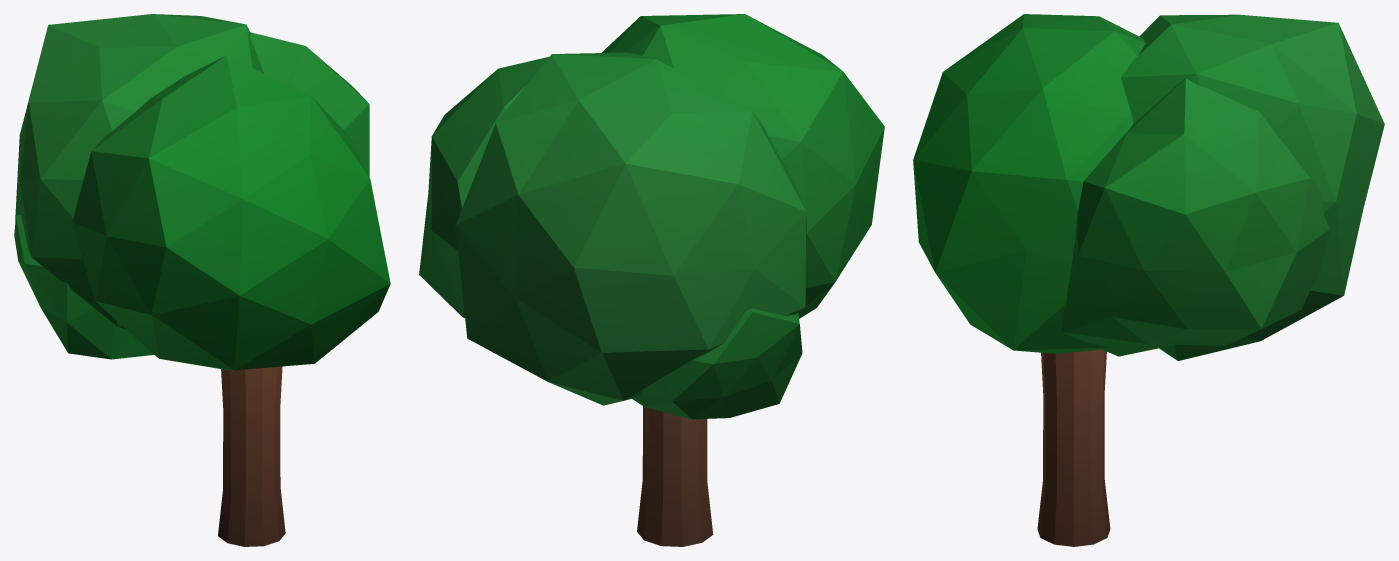
File: agac.fbx
3 renders of one model, left to right at view 1: azimuth 30°, elevation 25°; view 2: azimuth 150°, elevation 25°; view 3: azimuth 270°, elevation 25°, orthographic. The views are drawn at different scales.
Visible parts, largest first — view 1: agac1; view 2: agac1; view 3: agac1.
Part boxes in pixels (x1,y1,x2,y2): agac1: (14, 14, 390, 546); agac1: (419, 14, 884, 546); agac1: (913, 14, 1384, 546).
Bounding box in the file's own units: 505 × 697 × 599.
